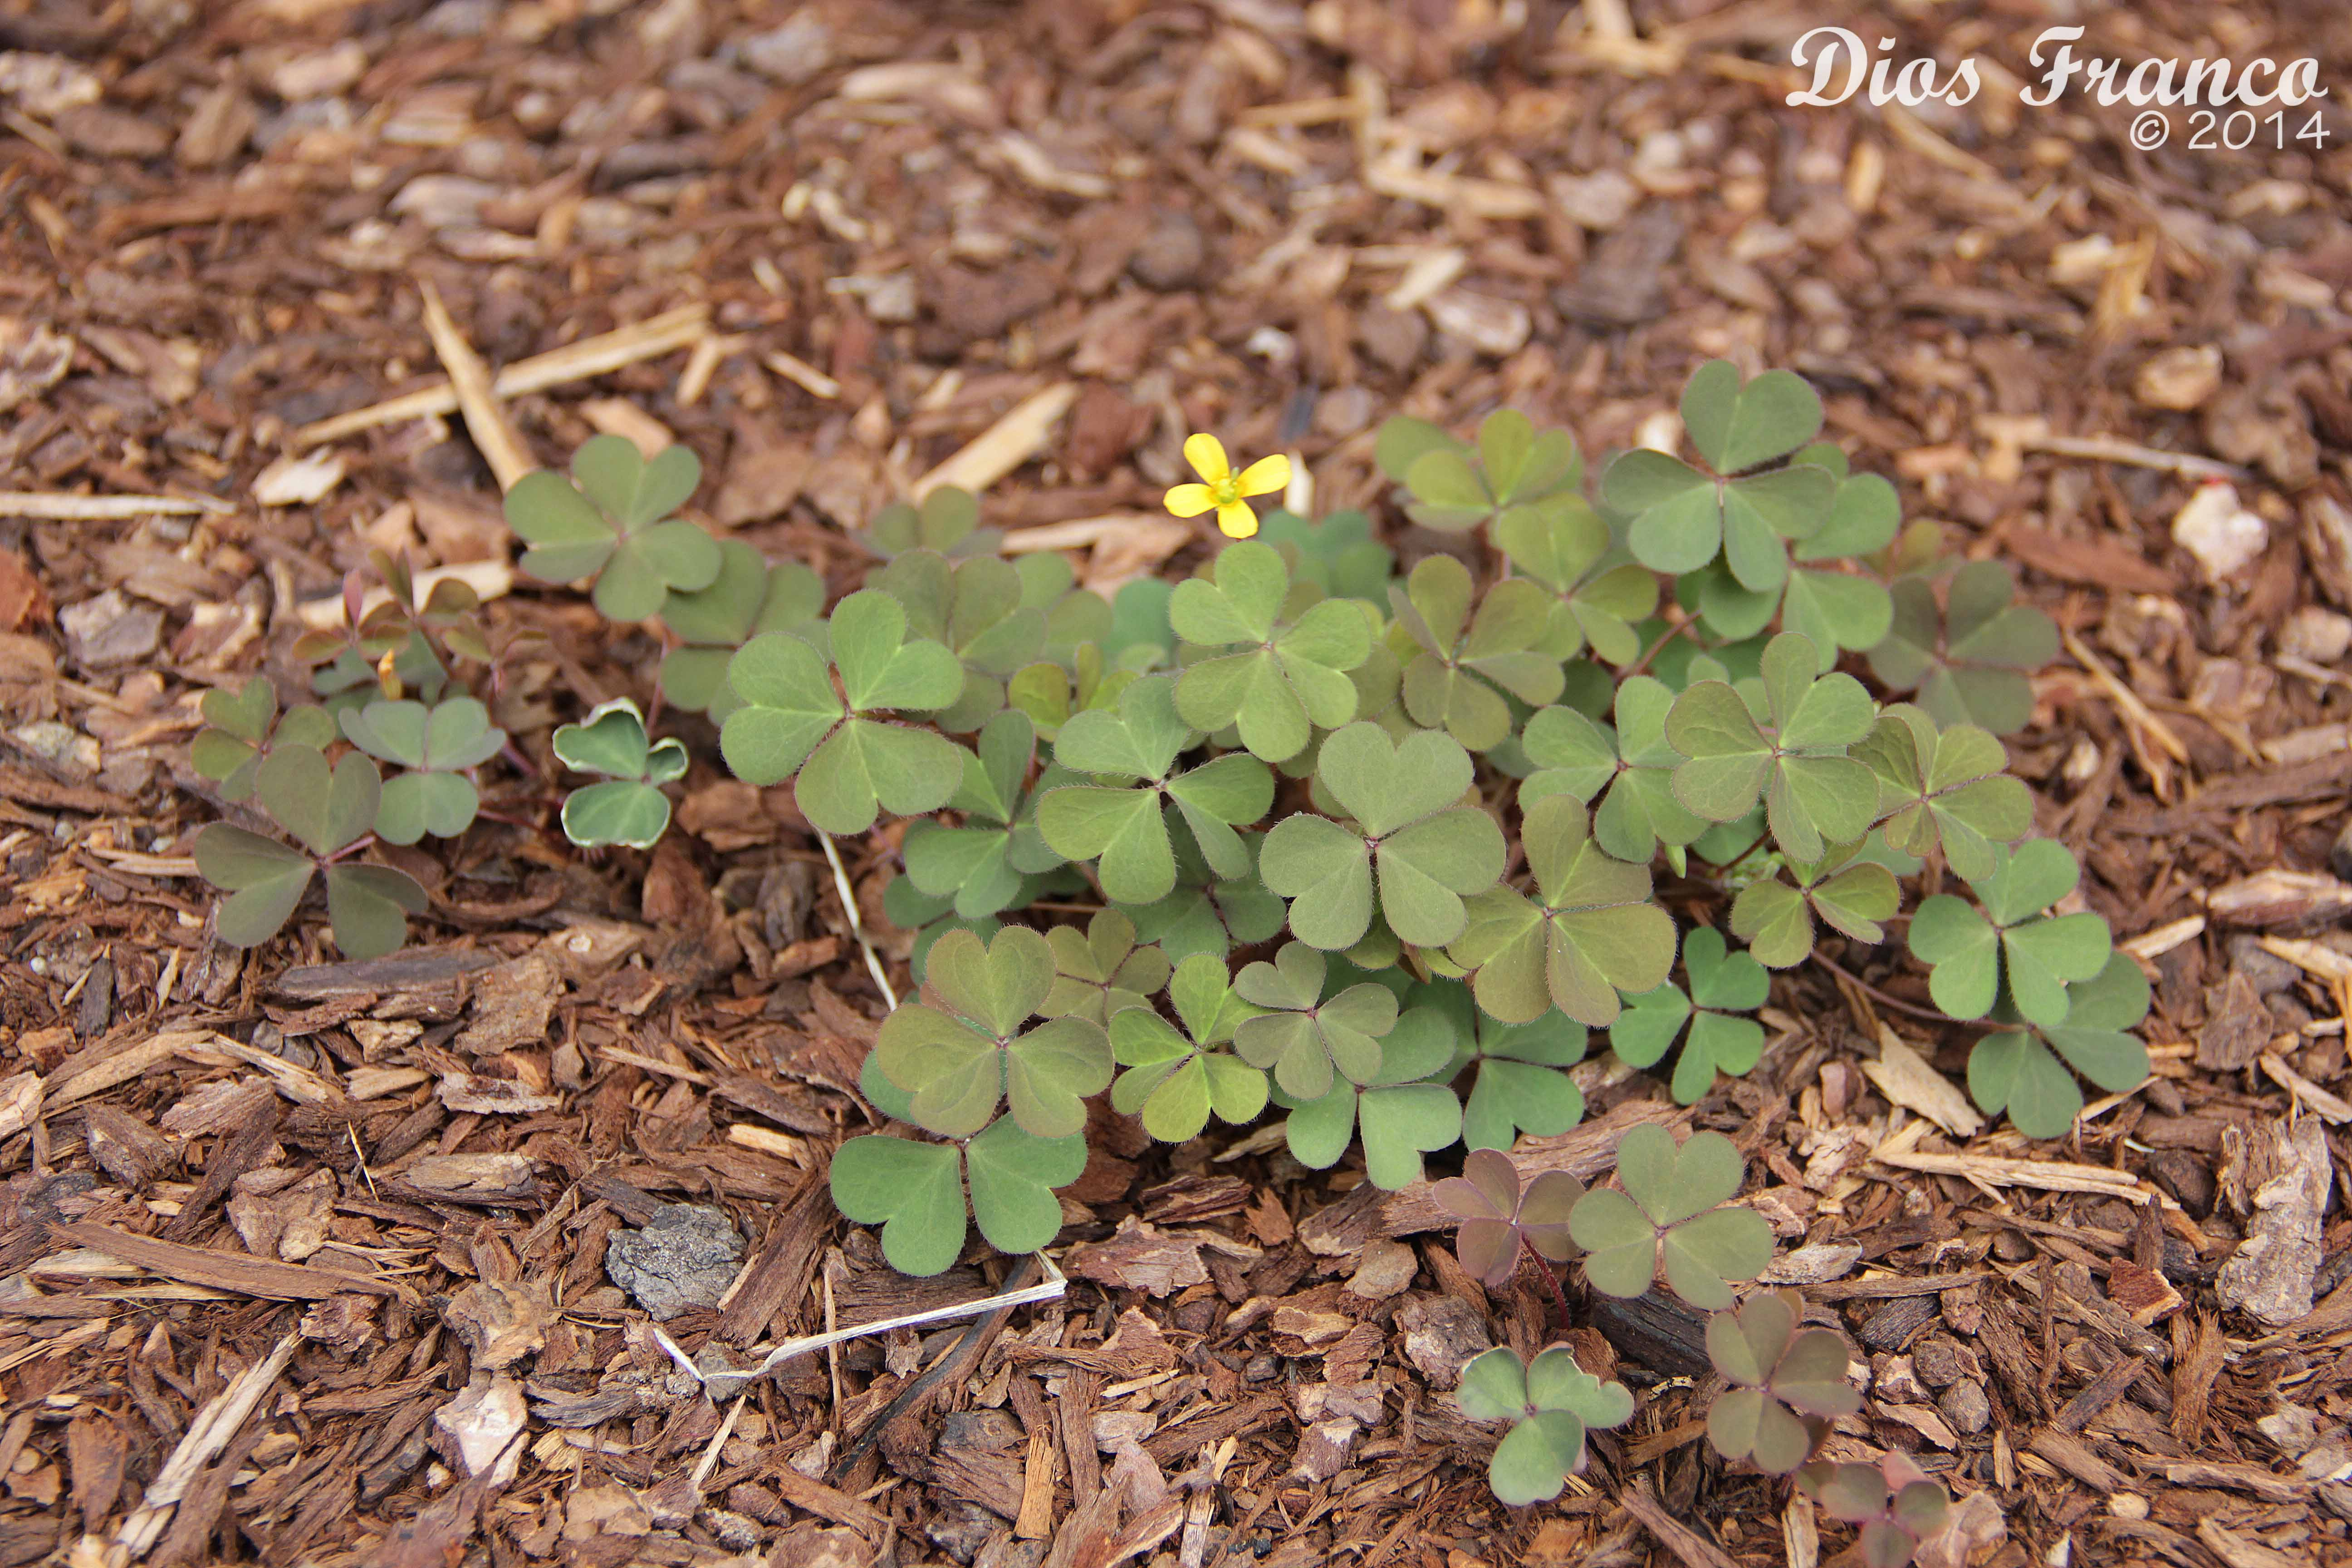oxalis: (423, 318, 2187, 1197)
